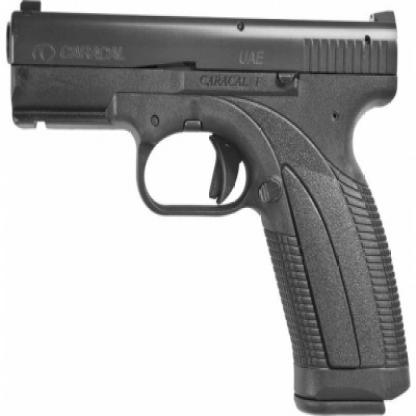Guns: (4, 0, 415, 415)
